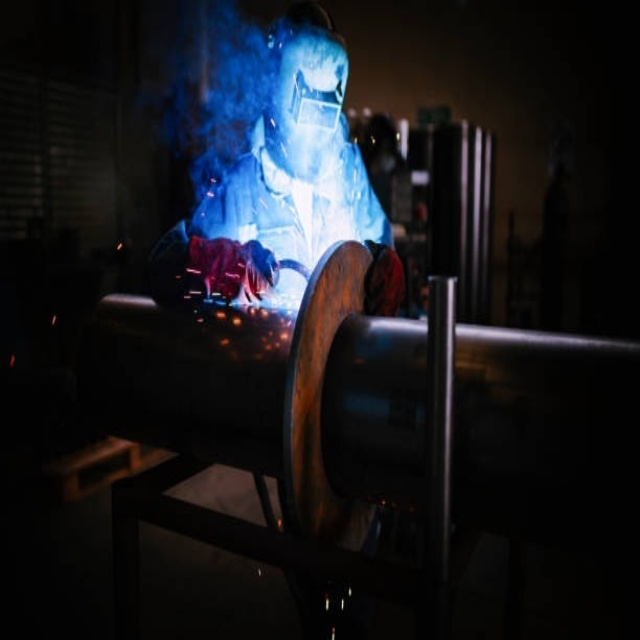Guantes: (184, 224, 271, 314)
